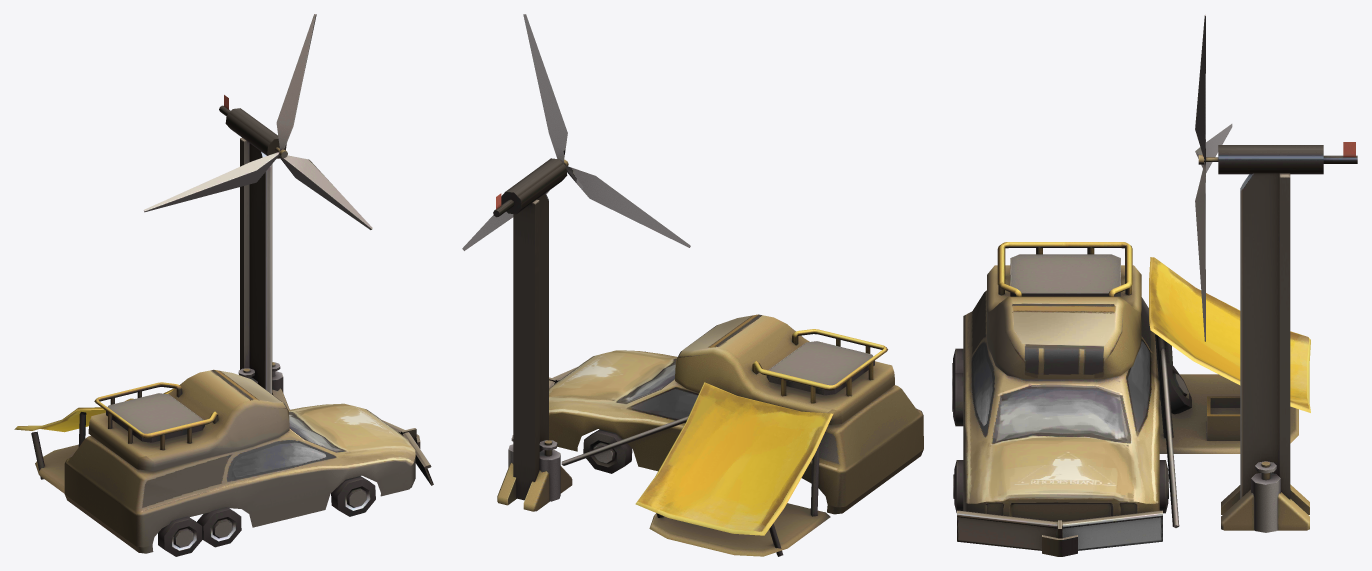
Rendered from trap_447_xbmcv.fbx.
3 views of the same model, side by side, from view 1: azimuth 30°, elevation 25°; view 2: azimuth 150°, elevation 25°; view 3: azimuth 270°, elevation 25° (orthographic). The views are drawn at different scales.
Visible parts, largest first — view 1: trap_447_xbmcv; view 2: trap_447_xbmcv; view 3: trap_447_xbmcv.
Boxes of the visible parts, bbox=[...] form: trap_447_xbmcv: bbox=[14, 14, 433, 556]; trap_447_xbmcv: bbox=[462, 14, 923, 556]; trap_447_xbmcv: bbox=[952, 14, 1357, 556].
Bounding box in the file's own units: 1.22 × 1.48 × 1.02.
1 material, 1 textured.
